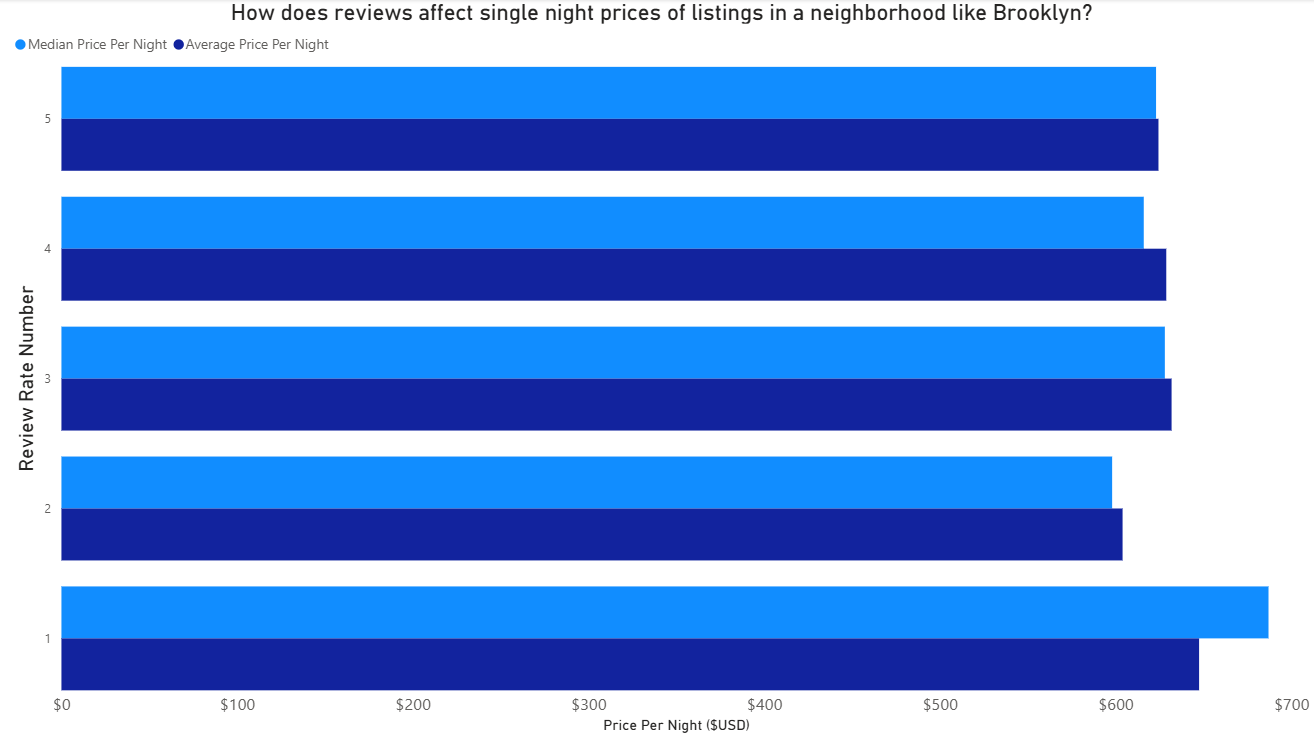

Layout of this report page (visuals, bound fields, positions):
{"tool":"powerbi","page":{"name":"Query_4","canvas":[1280,720],"ordinal":3},"visuals":[{"type":"clusteredBarChart","title":"How does reviews affect single night prices of listings in a neighborhood like Brooklyn?","fields":{"Y":["Sum(Query_4.median_price_per_night)","Sum(Query_4.avg_price_per_night)"],"Category":["Query_4.review_rate_number"]},"box":[9.7,0,1270.3,719.8],"z":0}]}

Visuals, with their boxes in screenshot pixels (x1, y1, x2, y2), scaled from the page's 1280x720 canvas onto the 1314x736 screenshot:
"How does reviews affect single night prices of listings in a neighborhood like Brooklyn?" clusteredBarChart: [10, 0, 1313, 735]
